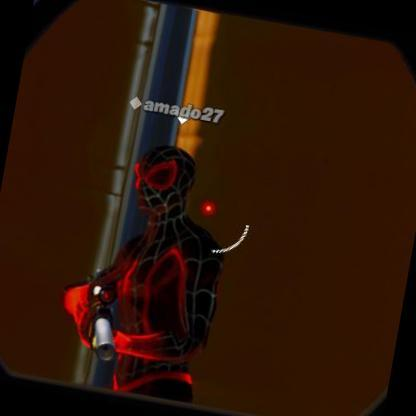person: (88, 152, 211, 408)
